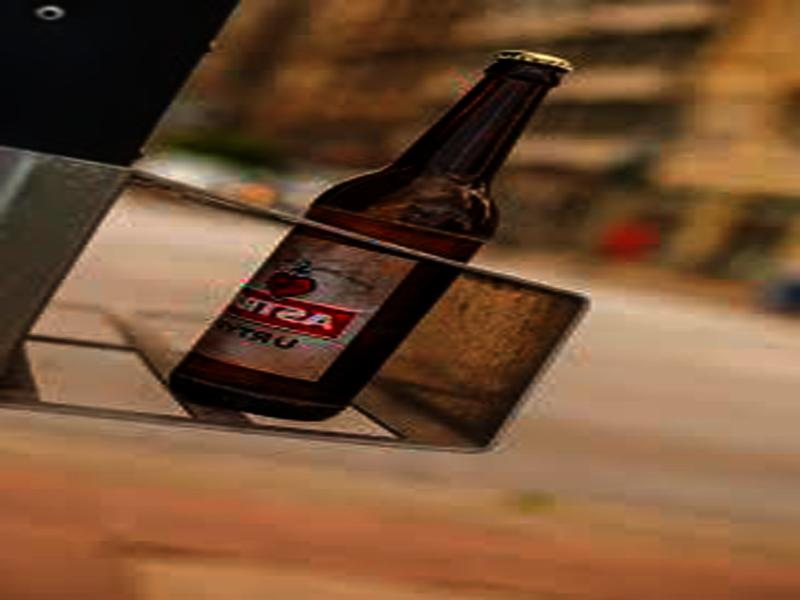Beer: (165, 48, 576, 421)
